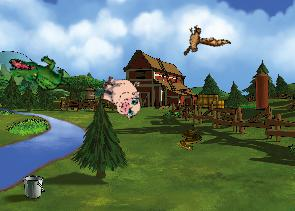crocodile: (7, 52, 70, 94)
eagle: (173, 13, 231, 68)
pig: (95, 71, 147, 121)
